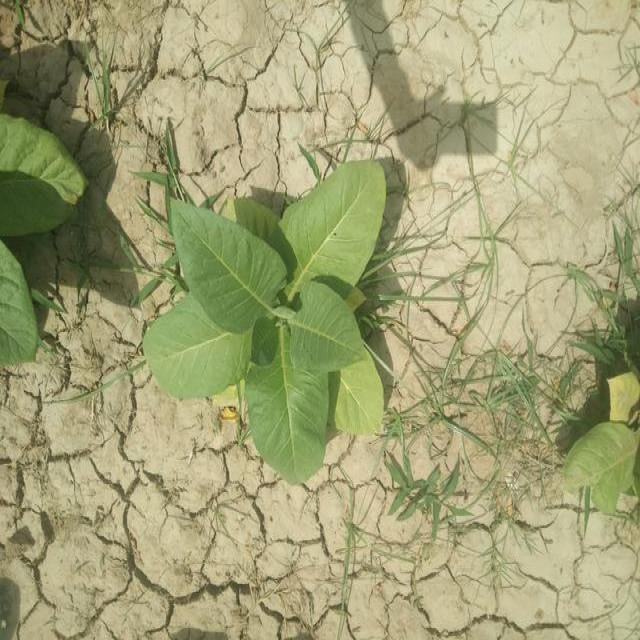crop: (166, 155, 404, 479), (0, 83, 85, 372)
